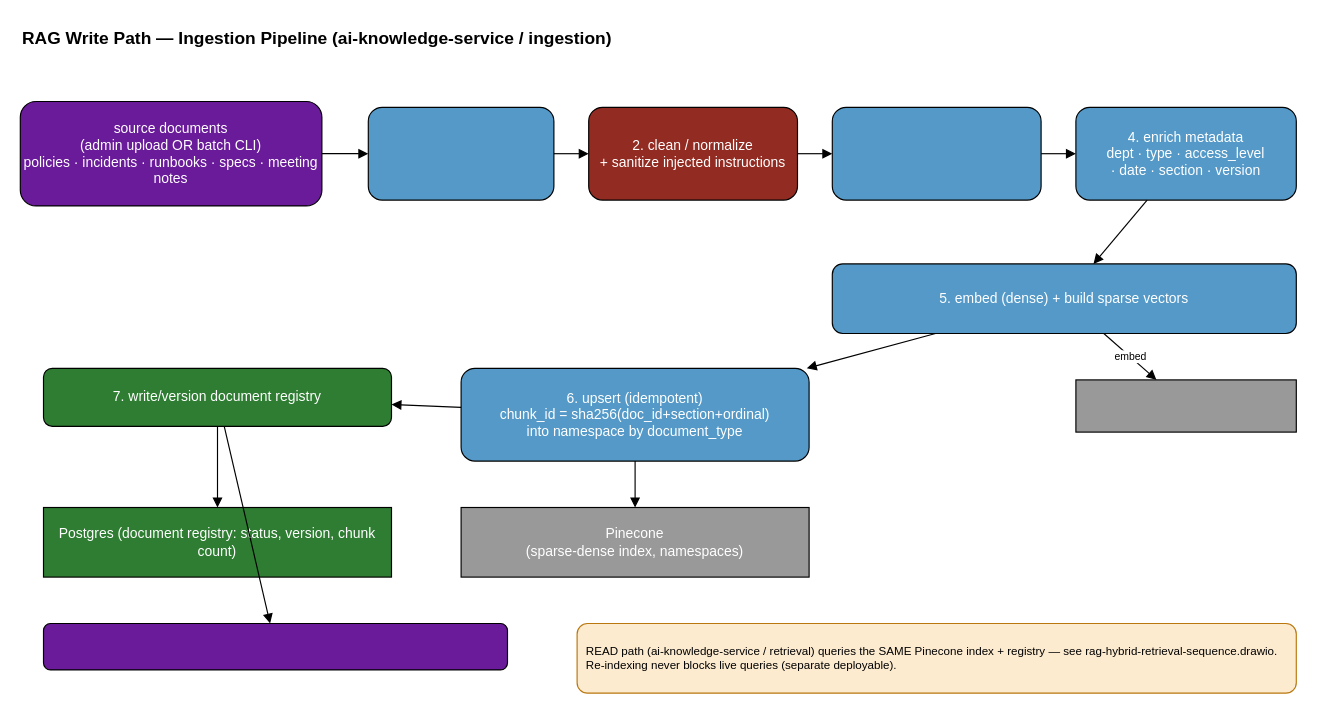
This 1317x713 diagram has some shape labels left out. Each missing label, with the box of its shape:
1. load / extract (pdf, md, html, docx): (367, 106, 554, 200)
3. chunk (section-aware) strategy per doc type: (831, 106, 1041, 200)
8. status → ai-admin-service console (queued → indexed): (42, 622, 507, 670)
Embedding Provider: (1075, 379, 1296, 432)
